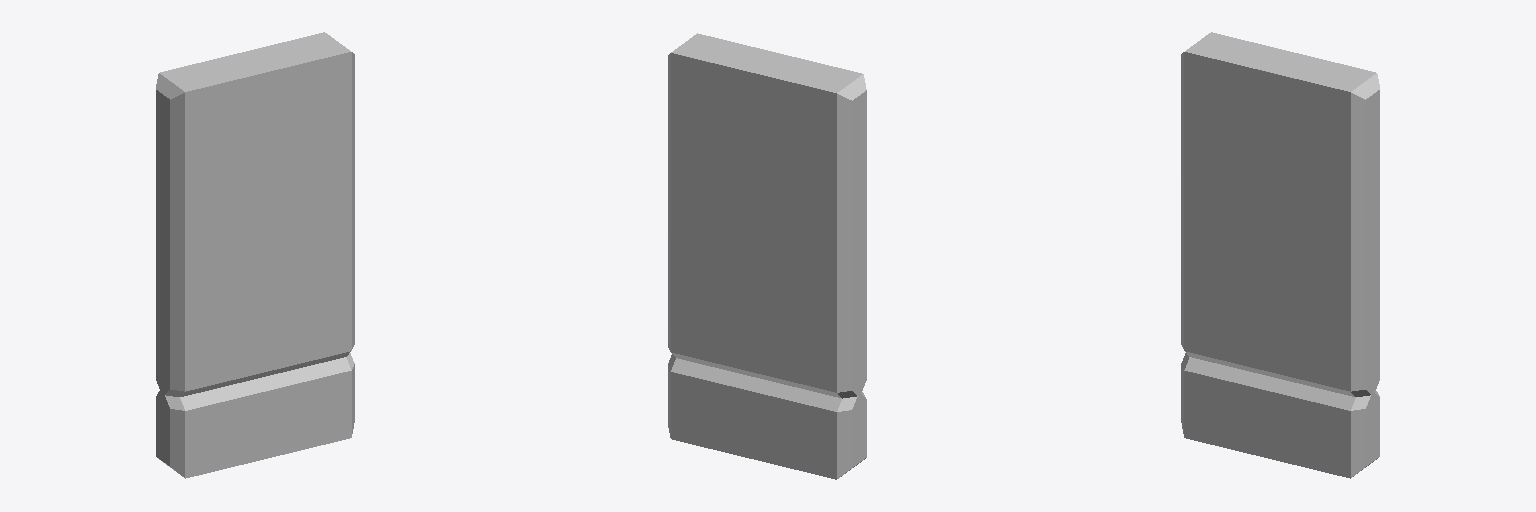
File: Wall_Half.obj
3 views of the same model, side by side, from view 1: azimuth 30°, elevation 25°; view 2: azimuth 150°, elevation 25°; view 3: azimuth 330°, elevation 25° (orthographic).
Parts seen in each view (by area): view 1: Wall_Half_Cube.16107; view 2: Wall_Half_Cube.16107; view 3: Wall_Half_Cube.16107.
Part boxes in pixels (bbox=[...]): Wall_Half_Cube.16107: bbox=[156, 32, 354, 478]; Wall_Half_Cube.16107: bbox=[668, 33, 866, 479]; Wall_Half_Cube.16107: bbox=[1181, 32, 1379, 478].
Size of the model in its own units: 2 by 4 by 0.53.